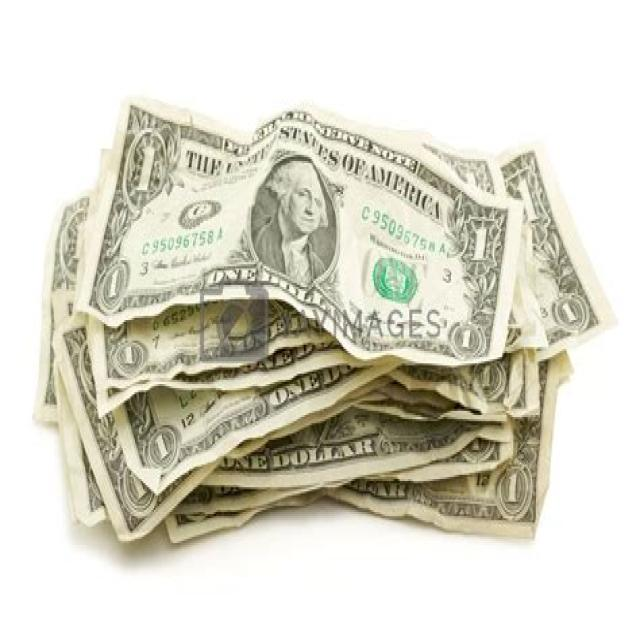banknote: (86, 131, 554, 392), (74, 91, 525, 359), (49, 282, 522, 529), (267, 350, 578, 542), (494, 142, 616, 358), (38, 187, 108, 423), (210, 438, 271, 481), (117, 451, 156, 517), (264, 367, 322, 411), (234, 317, 286, 359), (513, 168, 547, 231), (465, 213, 500, 269), (63, 208, 90, 280), (497, 464, 531, 520), (133, 136, 161, 203), (204, 260, 258, 293), (146, 418, 178, 470), (472, 358, 505, 400), (98, 262, 128, 308), (114, 338, 146, 373), (556, 293, 584, 328), (453, 322, 480, 355)
